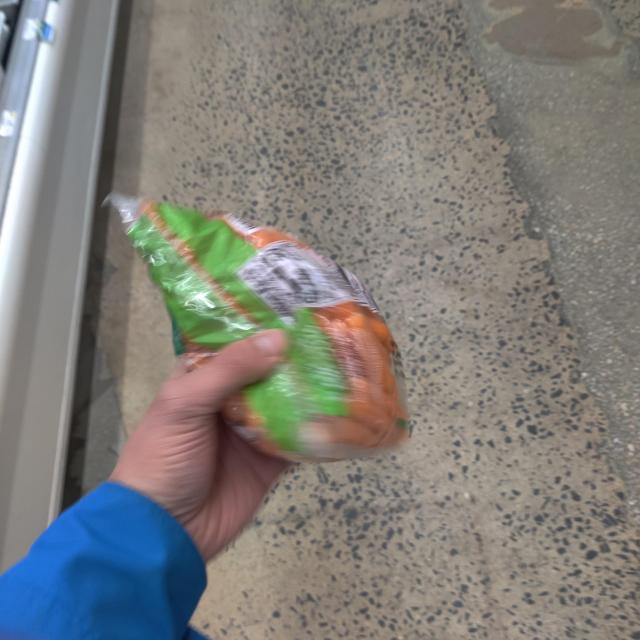Carrots: (101, 162, 433, 503)
